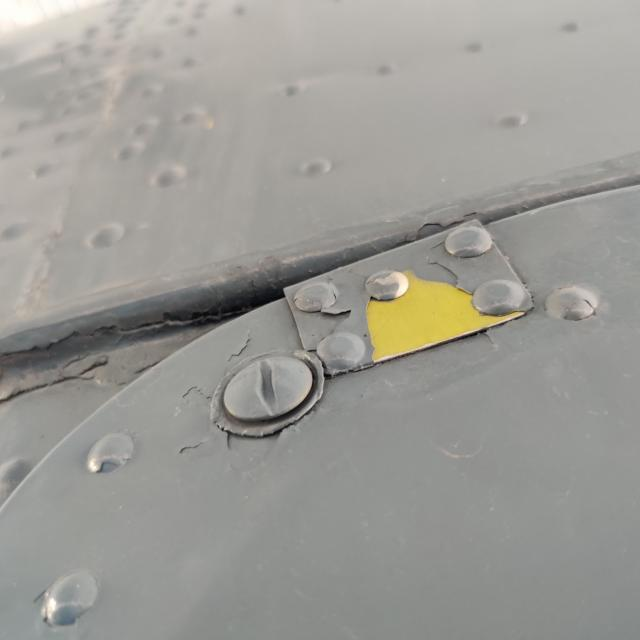Paint-off: (368, 272, 524, 363)
